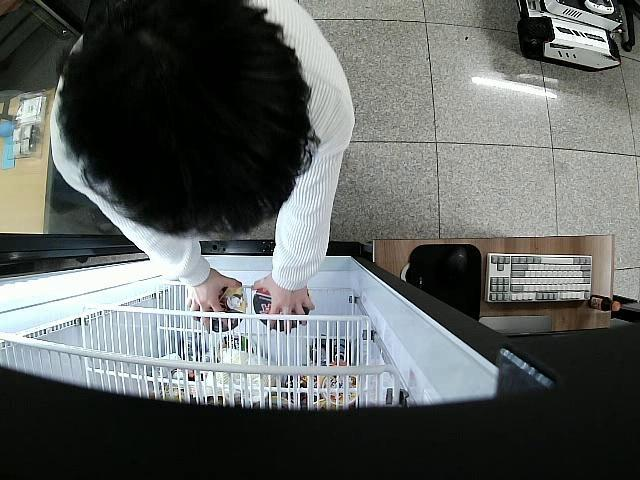07_buldak_L: (253, 282, 310, 330), (199, 281, 246, 334)
